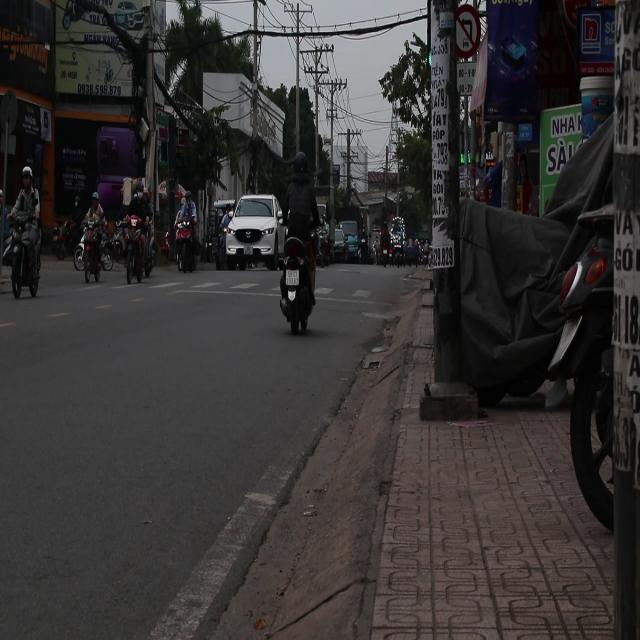car: (220, 194, 284, 271), (332, 238, 349, 262)
motorbike: (278, 233, 318, 336), (7, 210, 41, 312), (125, 215, 151, 285), (173, 217, 203, 274), (84, 214, 106, 287)
truck: (332, 218, 364, 264)
